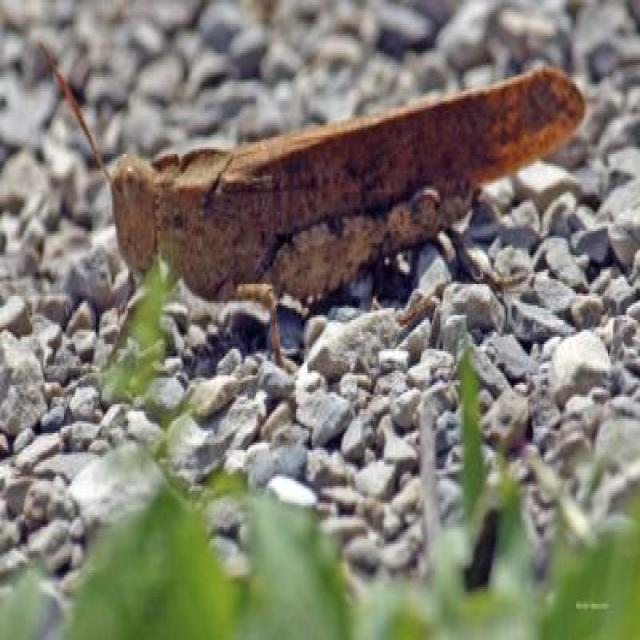antennae: (41, 46, 114, 176)
body: (108, 147, 479, 274)
insect: (34, 42, 586, 376)
legs: (273, 192, 525, 291), (220, 275, 293, 372)
mouthpart: (120, 237, 158, 281)
wings: (217, 72, 582, 225)
